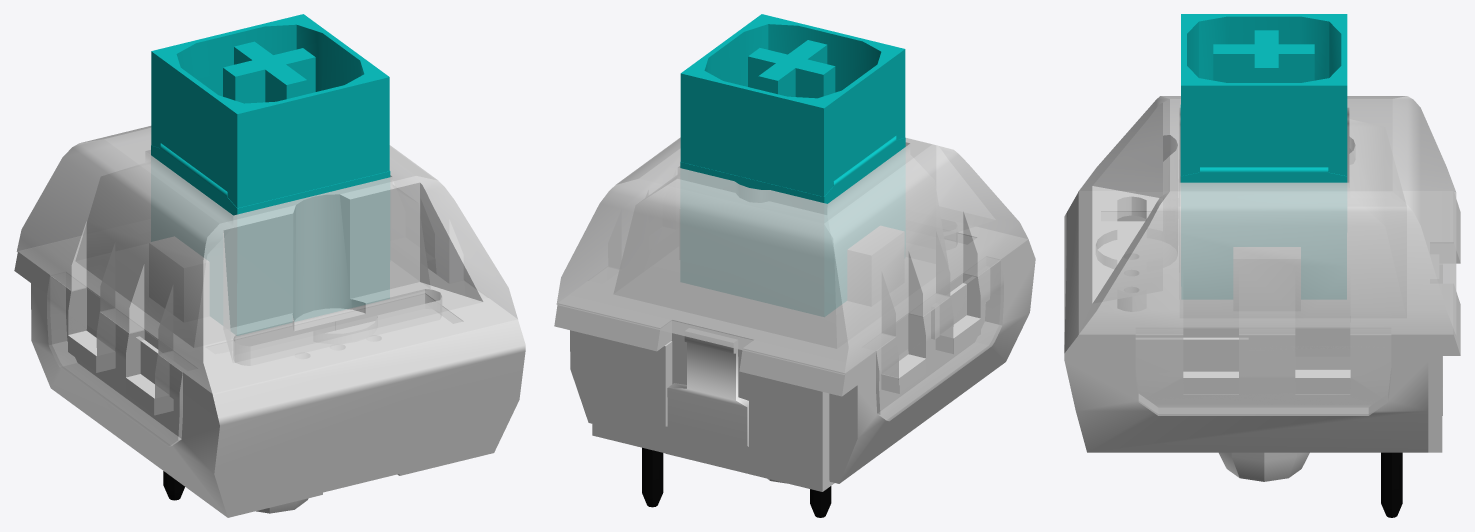
Rendered from switchHako.fbx.
3 views of the same model, side by side, from view 1: azimuth 30°, elevation 25°; view 2: azimuth 150°, elevation 25°; view 3: azimuth 270°, elevation 25° (orthographic). The views are drawn at different scales.
Visible parts, largest first — view 1: topHousing1, base, boxStem; view 2: base, topHousing1, boxStem, legs; view 3: topHousing1, base, boxStem, legs.
Part boxes in pixels (left/top/right/bottom): topHousing1: left=16, top=126, right=517, bottom=446; base: left=14, top=236, right=525, bottom=517; boxStem: left=151, top=14, right=390, bottom=335; base: left=554, top=226, right=1035, bottom=491; topHousing1: left=556, top=137, right=1028, bottom=421; boxStem: left=680, top=14, right=905, bottom=316; legs: left=642, top=447, right=831, bottom=517; topHousing1: left=1078, top=96, right=1456, bottom=415; base: left=1064, top=191, right=1460, bottom=481; boxStem: left=1180, top=14, right=1347, bottom=298; legs: left=1381, top=452, right=1402, bottom=517.
Size of the model in its own units: 1.59 by 2.16 by 1.81.
